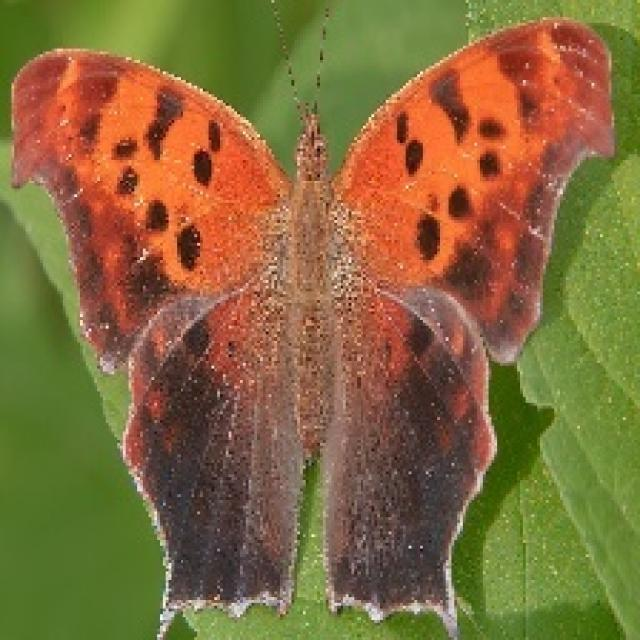butterfly: (6, 0, 617, 637)
